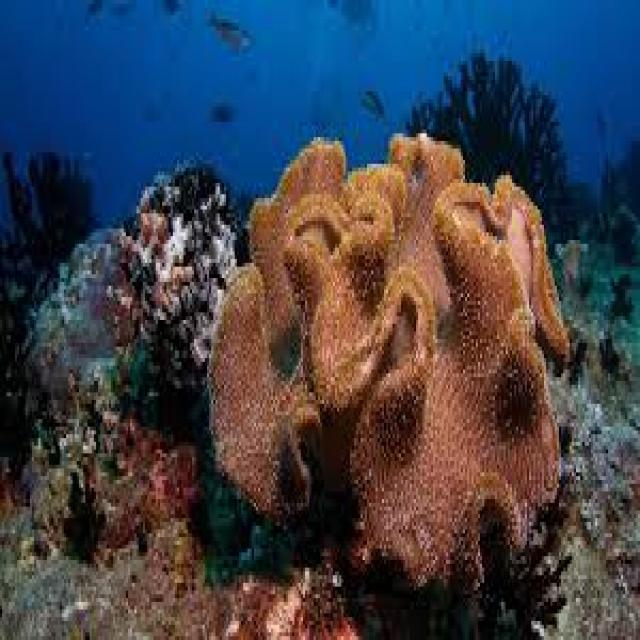Coral: (208, 132, 570, 606)
